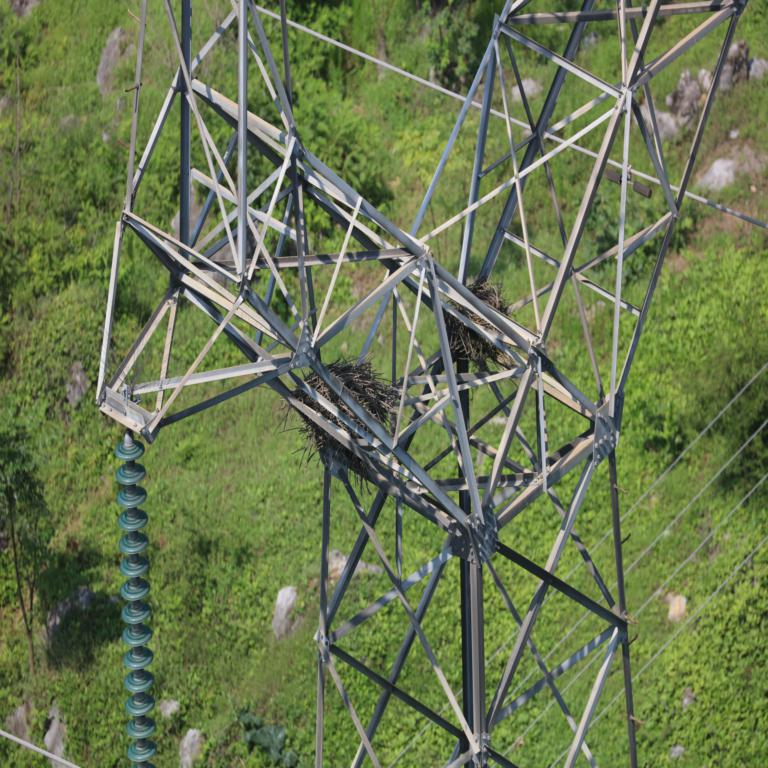nest: (302, 367, 406, 474), (440, 284, 508, 365)
